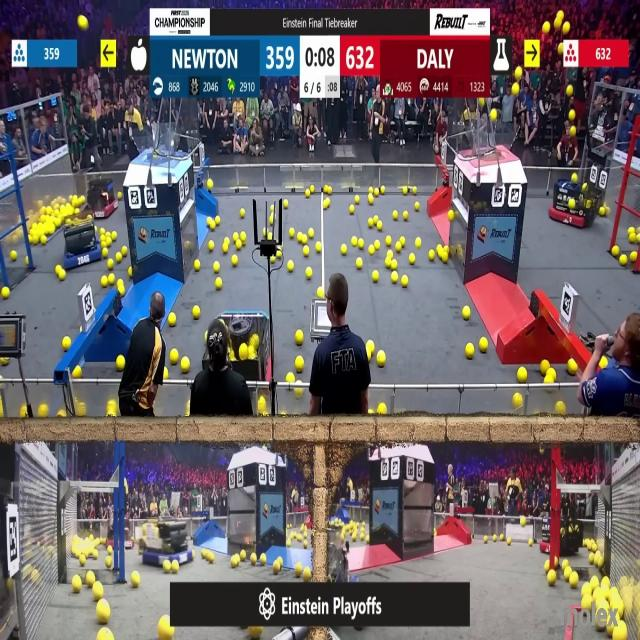ball_airborne: (77, 15, 86, 28), (134, 110, 141, 124), (513, 85, 520, 97), (566, 86, 573, 98), (516, 68, 523, 80), (555, 16, 563, 26), (563, 23, 570, 34), (542, 23, 549, 34), (491, 109, 497, 121), (568, 110, 575, 120), (570, 127, 576, 138), (558, 43, 564, 54), (480, 98, 486, 107)
ball_ground: (160, 617, 173, 640), (98, 603, 110, 626), (94, 584, 104, 601), (250, 626, 262, 640), (72, 578, 82, 594), (180, 356, 189, 372), (514, 393, 524, 407), (556, 403, 566, 417), (465, 344, 474, 359), (294, 356, 303, 371), (38, 406, 48, 419), (132, 571, 140, 587), (257, 397, 265, 413), (87, 570, 96, 584), (569, 572, 578, 586), (581, 594, 590, 608), (568, 359, 576, 374), (116, 355, 124, 370), (546, 570, 554, 585), (518, 367, 527, 380), (378, 352, 386, 366), (191, 306, 199, 320), (169, 313, 177, 327), (294, 332, 302, 346), (63, 338, 71, 352), (274, 559, 282, 573), (99, 630, 110, 640), (379, 405, 387, 418), (171, 350, 179, 363), (547, 367, 555, 380), (76, 407, 85, 418), (481, 339, 488, 353), (232, 556, 240, 568), (250, 554, 258, 566), (165, 560, 172, 573), (294, 563, 301, 576), (74, 365, 82, 376), (365, 341, 373, 352), (370, 272, 378, 283), (620, 254, 628, 265), (316, 287, 324, 298), (595, 556, 603, 567), (2, 287, 9, 299), (215, 278, 222, 290), (462, 307, 469, 319), (259, 554, 266, 566), (172, 561, 179, 573), (540, 359, 547, 371), (304, 568, 311, 580), (286, 374, 294, 384), (630, 252, 638, 262), (18, 410, 26, 420), (106, 557, 113, 568), (600, 357, 607, 368), (109, 275, 116, 286), (307, 268, 313, 280), (164, 366, 170, 378), (208, 552, 214, 564), (59, 411, 67, 420), (611, 246, 618, 256), (117, 286, 124, 296), (213, 264, 220, 274), (115, 252, 122, 262), (401, 276, 407, 287), (233, 255, 239, 266), (391, 273, 397, 284), (342, 242, 348, 253), (316, 242, 322, 253), (356, 260, 362, 271), (102, 276, 108, 287), (108, 258, 114, 269), (297, 233, 303, 244), (428, 250, 434, 261), (564, 569, 570, 580), (589, 554, 595, 565), (0, 357, 8, 365), (348, 205, 355, 214), (631, 235, 638, 244), (294, 388, 301, 397), (561, 559, 568, 568), (416, 238, 422, 248), (60, 271, 66, 281), (193, 262, 199, 272), (304, 246, 310, 256), (102, 248, 108, 258), (307, 228, 313, 238), (10, 250, 16, 260), (395, 242, 401, 252), (40, 236, 46, 246), (208, 180, 214, 190), (79, 556, 85, 566), (116, 279, 123, 287), (364, 536, 371, 544), (288, 262, 293, 273), (209, 241, 214, 252), (323, 200, 329, 209), (443, 253, 449, 262), (121, 247, 127, 256), (240, 209, 246, 218), (392, 211, 398, 220), (386, 258, 392, 267), (324, 185, 330, 194), (93, 550, 99, 559), (411, 253, 416, 263), (222, 244, 227, 254), (391, 262, 396, 272), (241, 552, 246, 562), (449, 211, 454, 221), (366, 351, 371, 361), (521, 517, 526, 527), (386, 238, 392, 246), (387, 249, 393, 257), (354, 198, 360, 206), (543, 376, 549, 384), (402, 186, 408, 194), (303, 237, 309, 245), (286, 539, 292, 547), (368, 246, 373, 255), (237, 241, 242, 250), (289, 230, 294, 239), (378, 221, 383, 230), (402, 211, 407, 220), (376, 241, 381, 250), (352, 238, 357, 247), (358, 240, 363, 249), (215, 216, 220, 225), (57, 266, 62, 275), (437, 243, 442, 252), (203, 551, 208, 560), (271, 255, 277, 262), (269, 216, 275, 223), (629, 226, 635, 233), (271, 205, 277, 212), (277, 250, 282, 258), (241, 234, 246, 242), (234, 234, 239, 242), (506, 536, 511, 544), (368, 196, 372, 206), (106, 239, 111, 247), (444, 245, 449, 253), (116, 190, 121, 198), (352, 534, 357, 542), (304, 539, 309, 547), (130, 269, 134, 278), (544, 561, 548, 570), (600, 207, 604, 216), (492, 535, 498, 541), (306, 190, 311, 197), (223, 238, 228, 245), (381, 187, 386, 194), (499, 534, 504, 541), (376, 188, 381, 195), (416, 204, 420, 212), (284, 201, 288, 209), (112, 233, 116, 241), (108, 545, 112, 553), (400, 238, 404, 246), (26, 256, 30, 264), (367, 218, 371, 226), (529, 538, 533, 546), (555, 558, 559, 566), (208, 217, 212, 225), (360, 534, 364, 542), (264, 227, 268, 235), (373, 216, 377, 224), (191, 552, 195, 560), (101, 236, 106, 242), (413, 187, 418, 193), (269, 234, 273, 241), (297, 534, 301, 541), (367, 185, 371, 192), (485, 536, 489, 542), (367, 411, 371, 417)
goal: (466, 122, 520, 160), (126, 128, 187, 160)
robot_blue: (142, 518, 194, 565), (62, 210, 101, 270)
robot_red: (210, 311, 265, 399), (550, 175, 600, 228), (87, 173, 119, 220)
